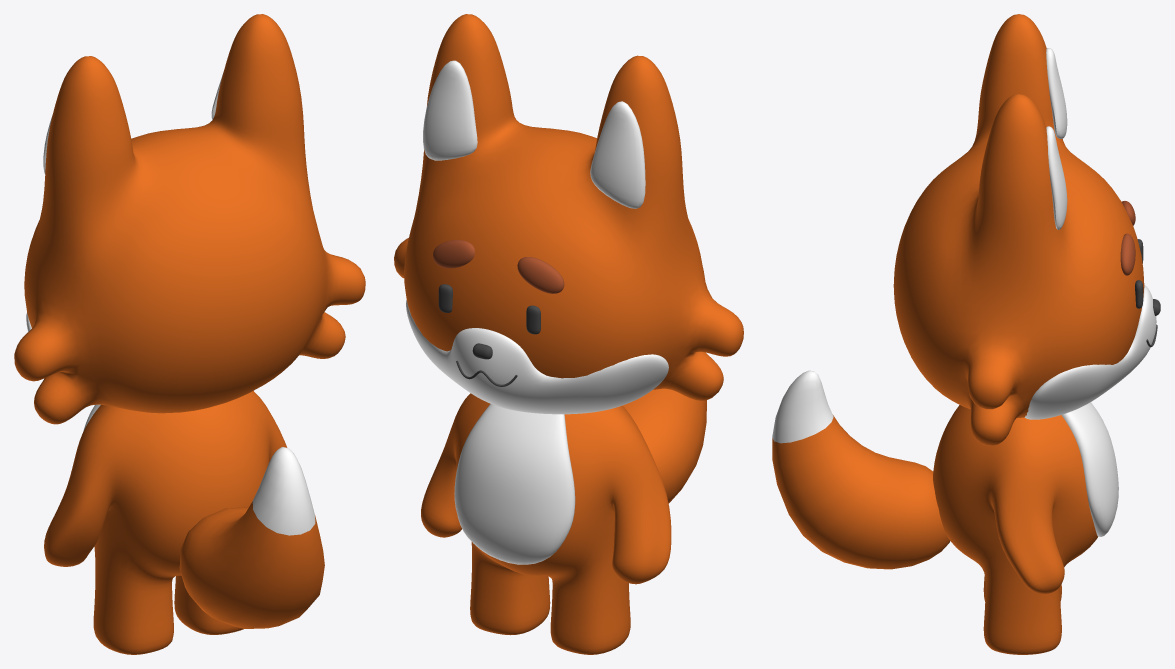
Rendered from foxModel.glb.
The picture shows the model from 3 angles, left to right: view 1: azimuth 30°, elevation 25°; view 2: azimuth 150°, elevation 25°; view 3: azimuth 270°, elevation 25°; orthographic projection. The views are drawn at different scales.
Visible parts, largest first — view 1: Cube.009; view 2: Cube.009; view 3: Cube.009.
Part boxes in pixels (x1=…): Cube.009: x1=14, y1=14, x2=365, y2=654; Cube.009: x1=394, y1=14, x2=743, y2=654; Cube.009: x1=772, y1=14, x2=1160, y2=654.
Bounding box in the file's own units: 2.43 × 4.02 × 2.49.
